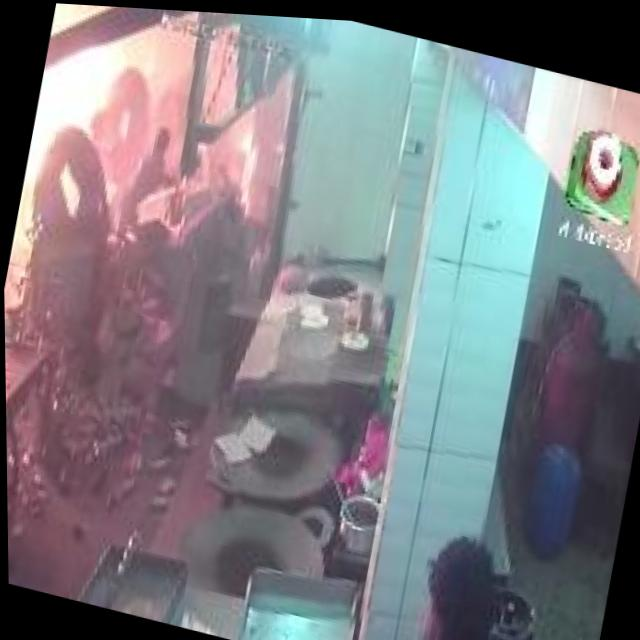fire: (14, 1, 163, 241)
